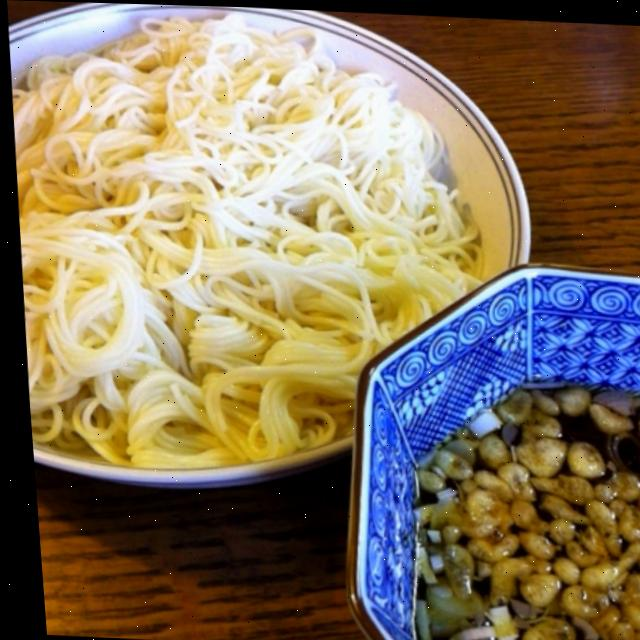面条主食: (6, 0, 571, 508)
